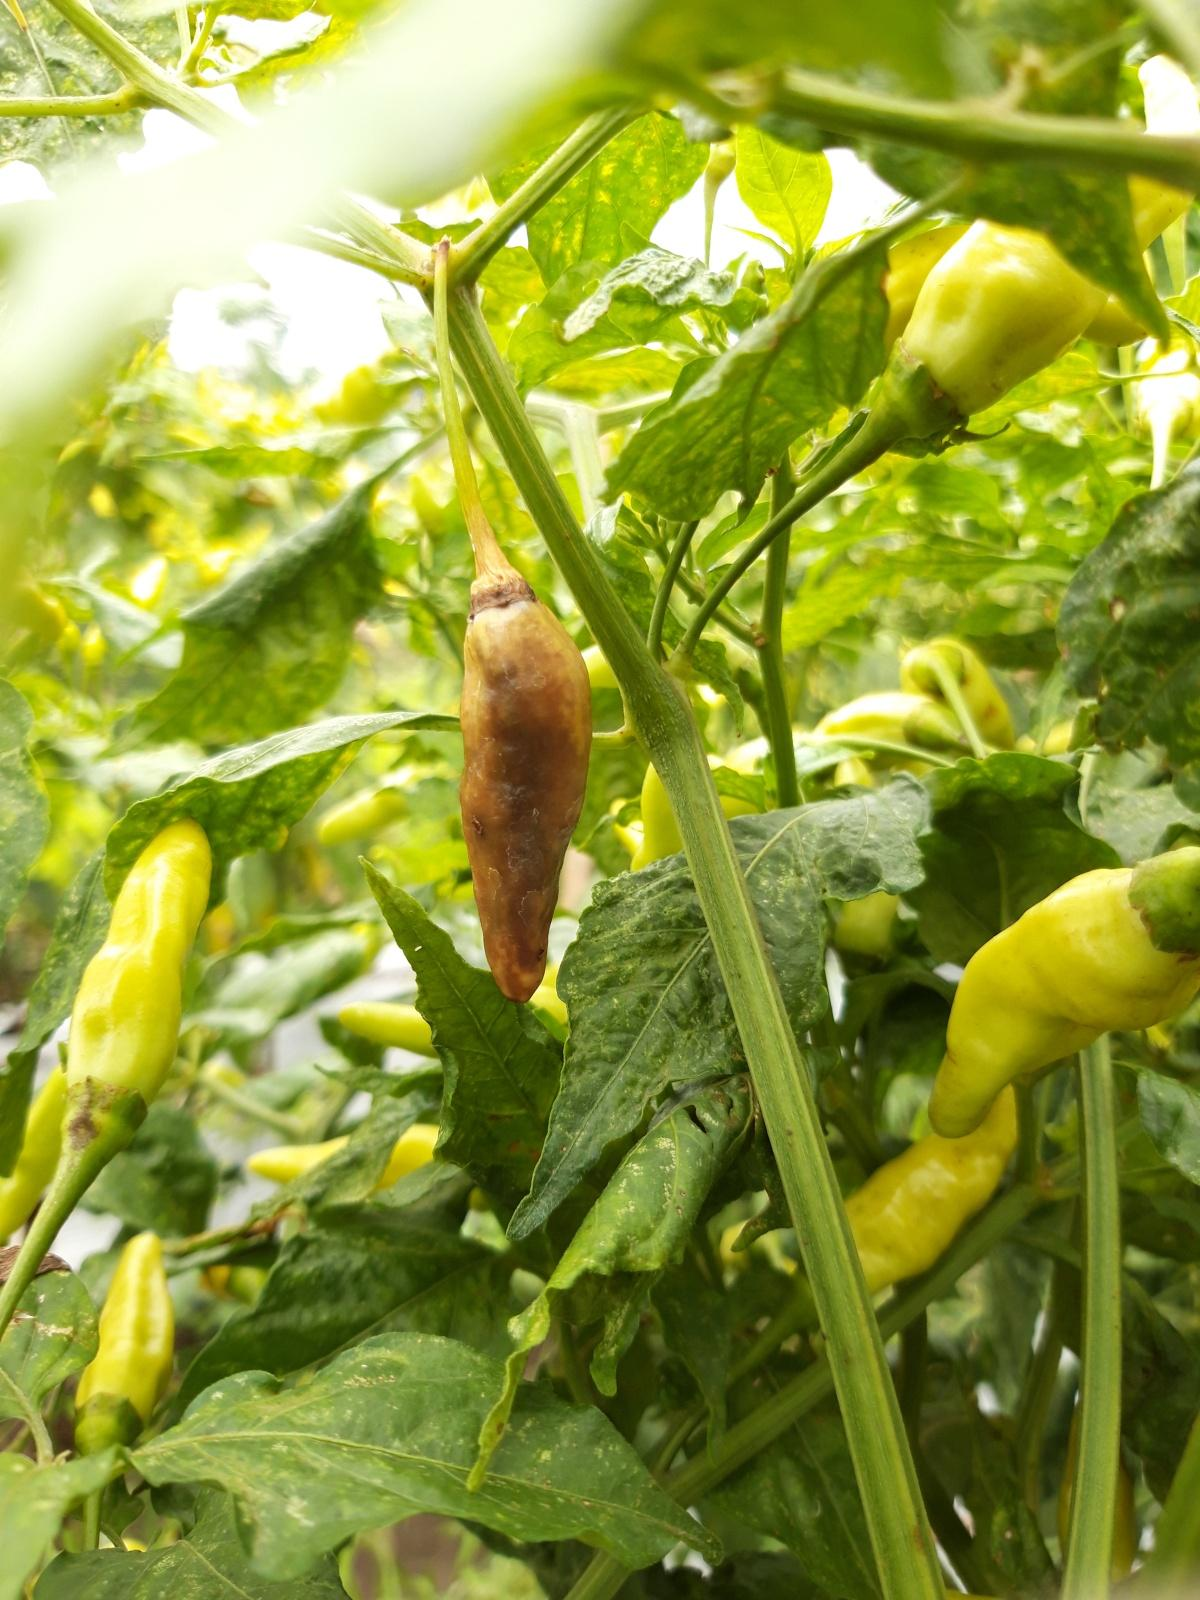cabai_normal: (926, 852, 1200, 1140), (61, 818, 213, 1120), (836, 1082, 1018, 1293), (73, 1230, 175, 1448)
lalat_buah: (454, 577, 592, 1000)
